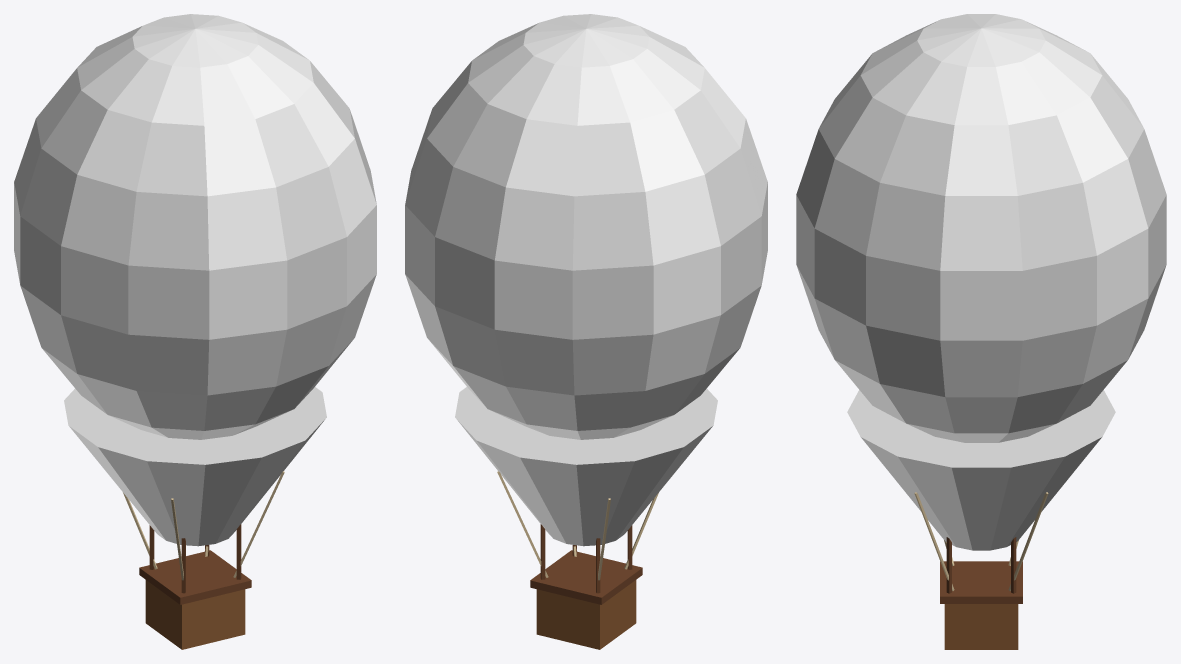
File: balloon.glb
3 renders of one model, left to right at view 1: azimuth 30°, elevation 25°; view 2: azimuth 150°, elevation 25°; view 3: azimuth 270°, elevation 25°, orthographic.
Parts seen in each view (by area): view 1: envelope, basket; view 2: envelope, basket; view 3: envelope, basket.
Part boxes in pixels (x1,y1,x2,y2): envelope: [14, 14, 376, 546]; basket: [123, 471, 284, 649]; envelope: [405, 14, 767, 546]; basket: [497, 471, 658, 649]; envelope: [796, 14, 1166, 550]; basket: [914, 492, 1048, 649].
Size of the model in its own units: 2.69 by 4.98 by 2.76.
